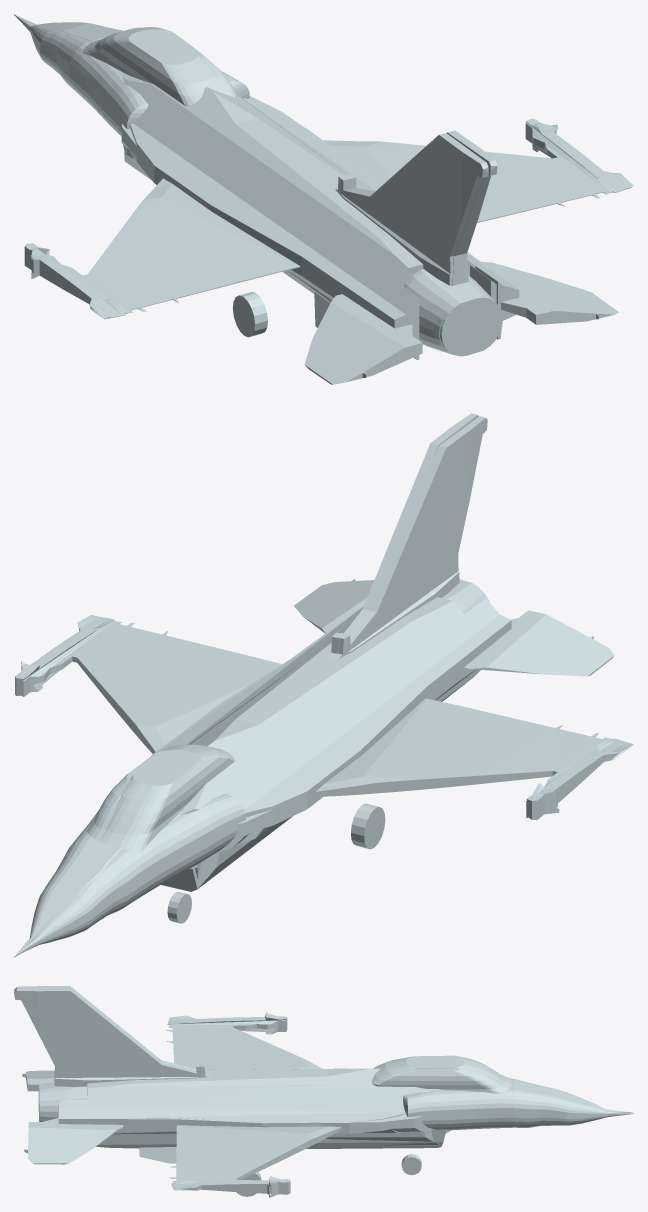
3 renders of one model, top to bottom at view 1: azimuth 30°, elevation 25°; view 2: azimuth 150°, elevation 25°; view 3: azimuth 270°, elevation 25°, orthographic. The views are drawn at different scales.
Parts seen in each view (by area): view 1: Aircraft visual hull, Landing gear; view 2: Aircraft visual hull, Landing gear; view 3: Aircraft visual hull, Landing gear.
Part boxes in pixels (box(x1,y1,x2,y2)): Aircraft visual hull: box(14, 14, 633, 384); Landing gear: box(232, 292, 267, 337); Aircraft visual hull: box(14, 413, 633, 957); Landing gear: box(167, 803, 385, 923); Aircraft visual hull: box(14, 986, 633, 1197); Landing gear: box(236, 1154, 421, 1196).
Size of the model in its own units: 9.97 by 5.06 by 15.16.
